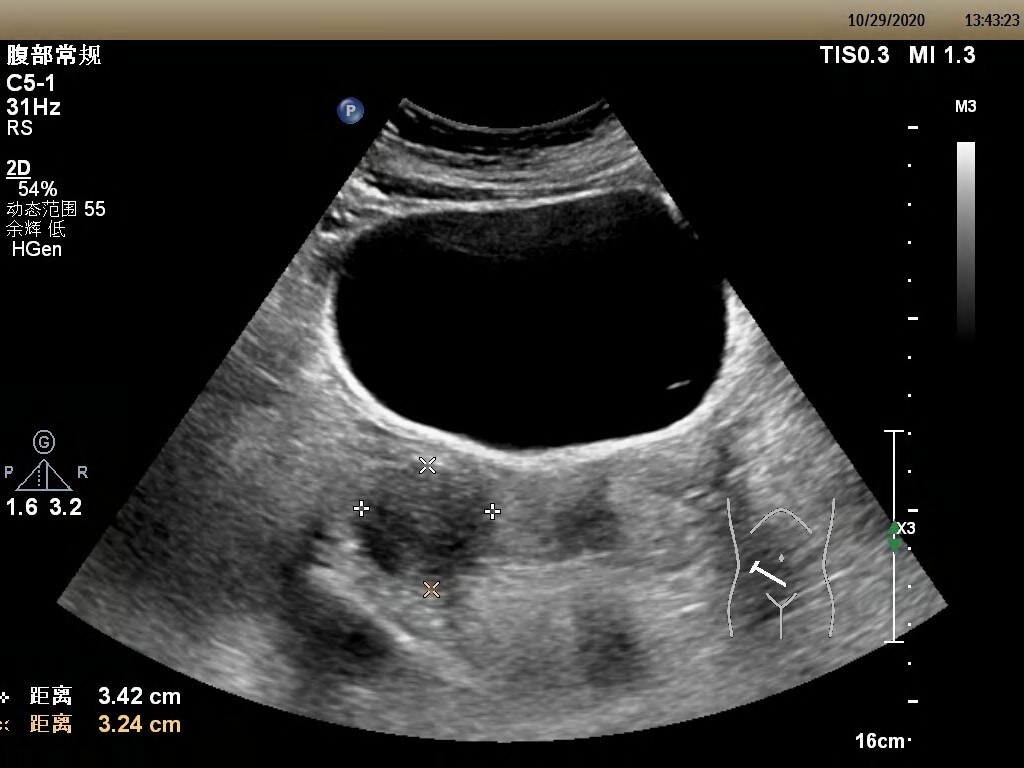肌瘤: (359, 465, 493, 592)
